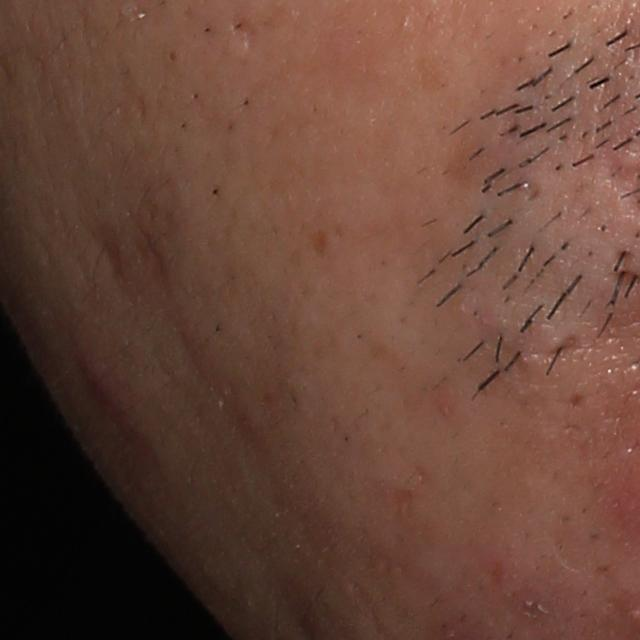atrophic_scar: (532, 332, 582, 365), (226, 14, 260, 52)
papule: (72, 339, 142, 414)
